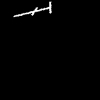double_crochet: (14, 2, 50, 16)
